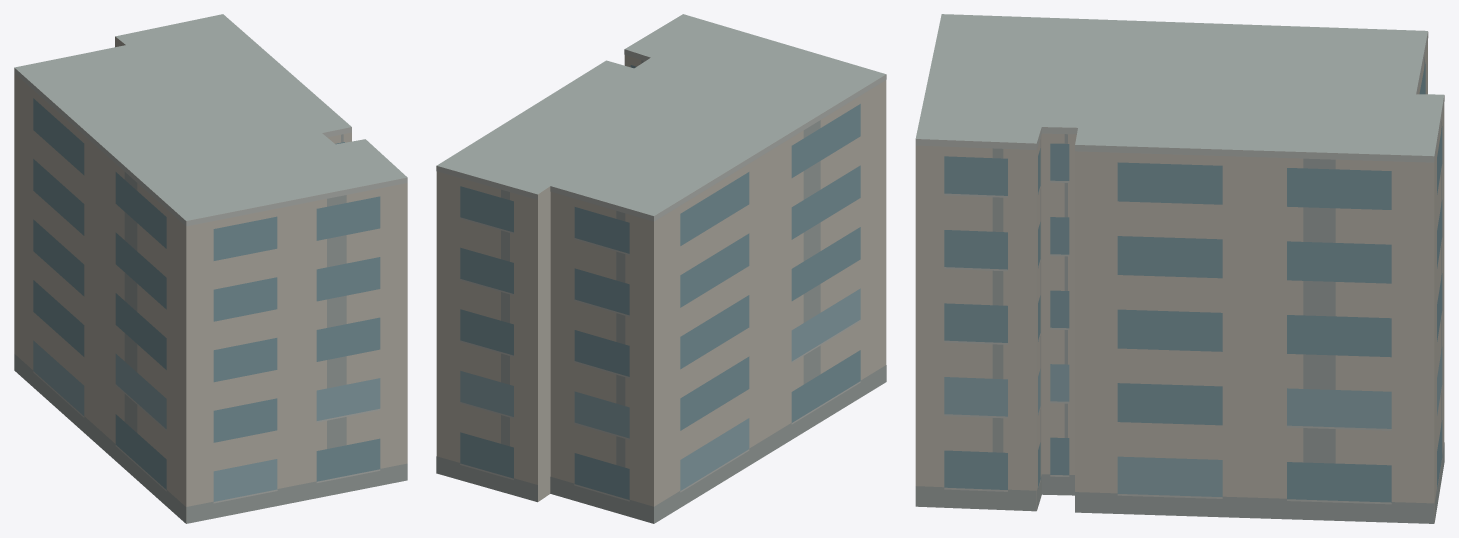
The model's file is survey-upis-32816642.glb.
3 views of the same model, side by side, from view 1: azimuth 30°, elevation 25°; view 2: azimuth 150°, elevation 25°; view 3: azimuth 270°, elevation 25° (orthographic). The views are drawn at different scales.
Parts seen in each view (by area): view 1: survey-upis-32816642.tmp; view 2: survey-upis-32816642.tmp; view 3: survey-upis-32816642.tmp.
Part boxes in pixels (x1,y1,x2,y2): survey-upis-32816642.tmp: [14, 14, 407, 523]; survey-upis-32816642.tmp: [436, 14, 886, 523]; survey-upis-32816642.tmp: [915, 14, 1444, 523].
Bounding box in the file's own units: 11.29 × 13.6 × 17.74.
